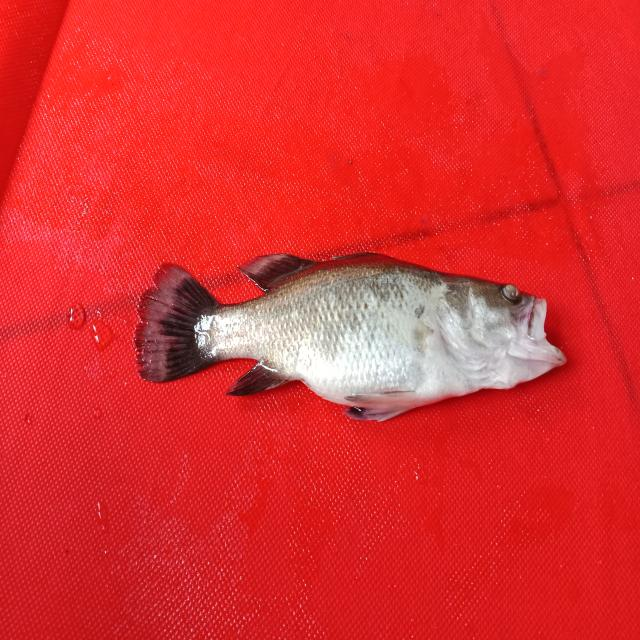ikan: (122, 223, 580, 434)
